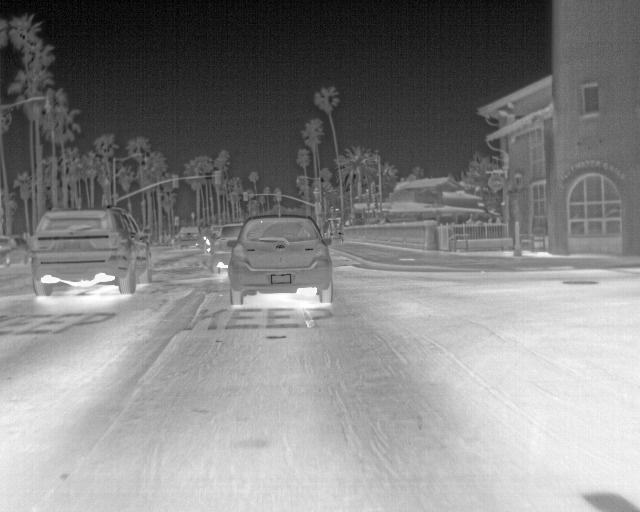bicycle: (30, 206, 150, 301), (225, 213, 334, 304), (210, 221, 243, 273), (2, 233, 36, 267), (174, 226, 203, 248)
